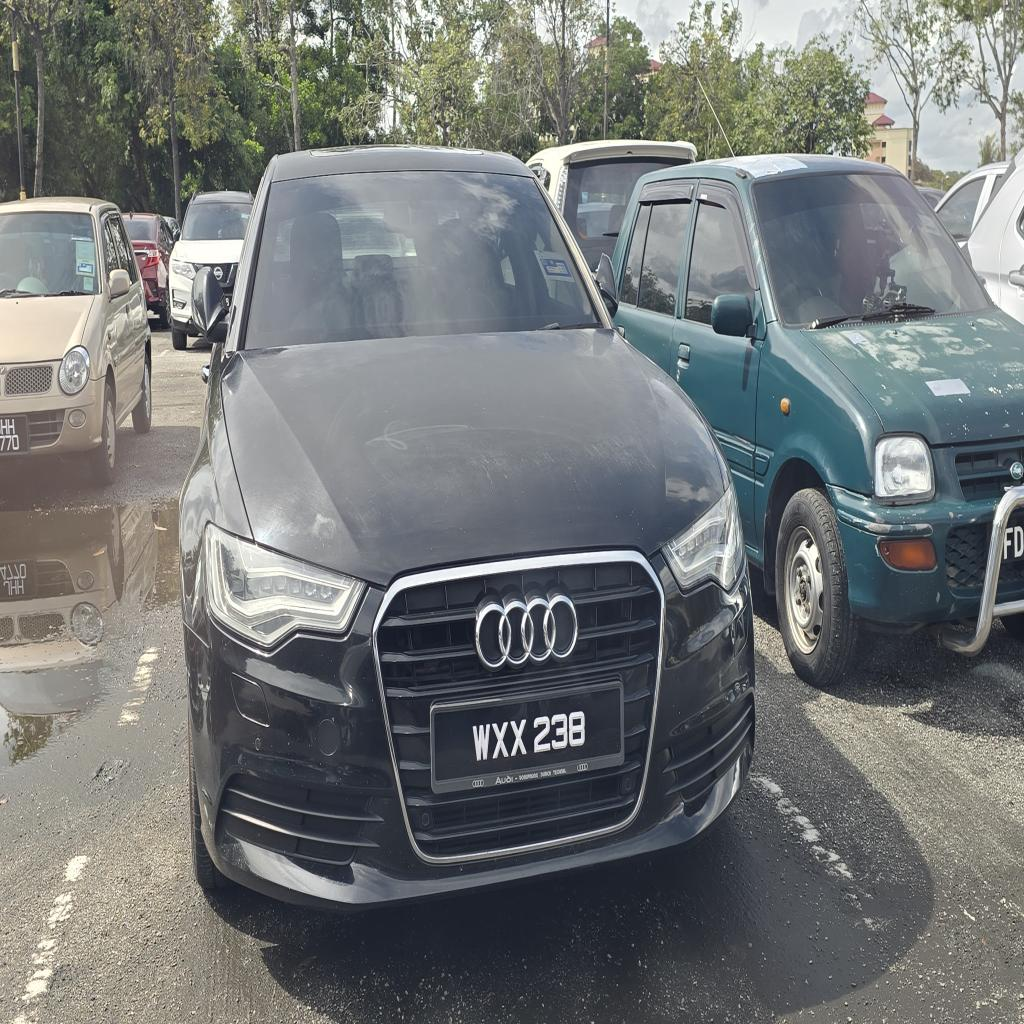car: (180, 147, 754, 908)
car plate: (431, 681, 623, 793)
